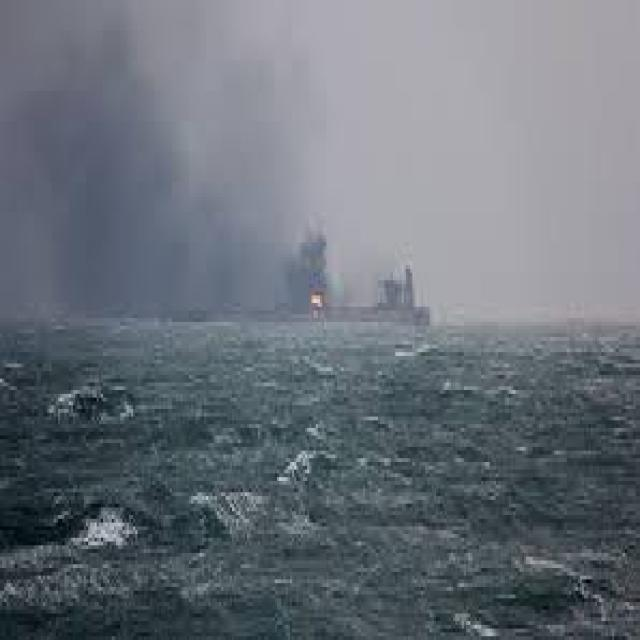cargoship: (217, 245, 424, 329)
